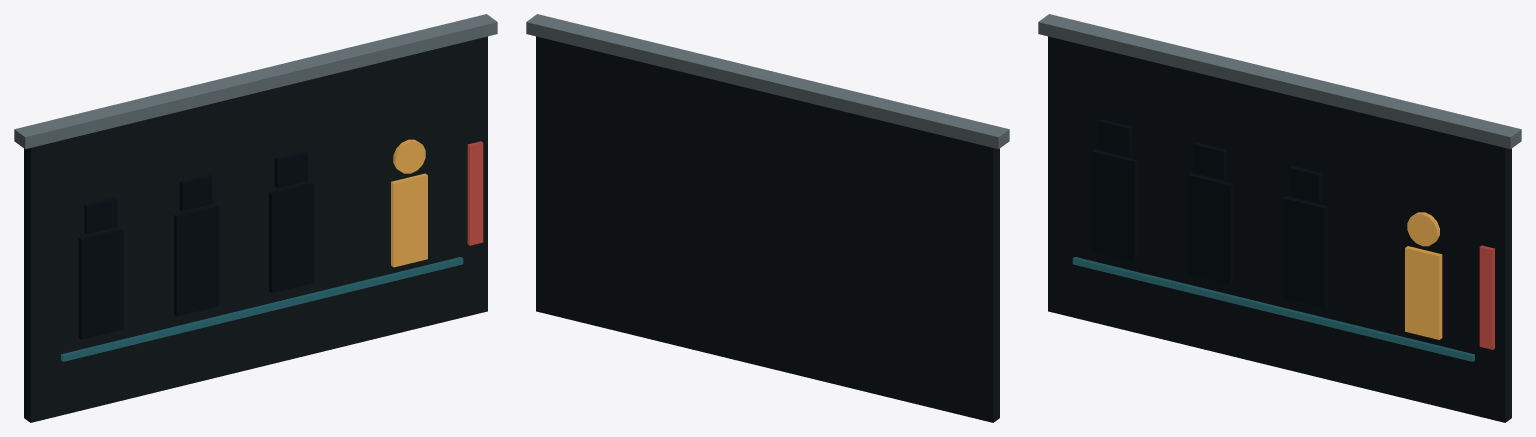
File: hp_room_cyber_mural_protocol_finale.glb
The picture shows the model from 3 angles, left to right: view 1: azimuth 30°, elevation 25°; view 2: azimuth 150°, elevation 25°; view 3: azimuth 330°, elevation 25°; orthographic projection.
Parts seen in each view (by area): view 1: mural_backing, mural_frame, robot_body_0, robot_body_1, robot_body_2, queue_floor_line, human_body, door_red_slot, robot_head_0, robot_head_1, robot_head_2, human_head; view 2: mural_backing, mural_frame; view 3: mural_backing, mural_frame, robot_body_0, robot_body_2, robot_body_1, queue_floor_line, human_body, door_red_slot, robot_head_0, robot_head_1, robot_head_2, human_head.
Part boxes in pixels (x1,y1,x2,y2): mural_backing: (24, 36, 487, 422); mural_frame: (14, 14, 497, 149); robot_body_0: (78, 228, 123, 339); robot_body_1: (174, 204, 218, 316); robot_body_2: (269, 181, 313, 293); queue_floor_line: (61, 257, 463, 361); human_body: (391, 173, 427, 267); door_red_slot: (467, 141, 483, 245); robot_head_0: (84, 197, 117, 234); robot_head_1: (179, 174, 212, 211); robot_head_2: (274, 151, 307, 188); human_head: (393, 139, 425, 173); mural_backing: (536, 36, 999, 422); mural_frame: (526, 14, 1009, 149); mural_backing: (1048, 36, 1511, 422); mural_frame: (1038, 14, 1521, 149); robot_body_0: (1092, 150, 1137, 261); robot_body_2: (1283, 196, 1327, 307); robot_body_1: (1188, 173, 1232, 284); queue_floor_line: (1072, 257, 1474, 361); human_body: (1405, 246, 1442, 339); door_red_slot: (1479, 245, 1494, 349); robot_head_0: (1098, 119, 1131, 156); robot_head_1: (1193, 142, 1226, 179); robot_head_2: (1289, 166, 1321, 202); human_head: (1407, 212, 1439, 246).
Bounding box in the file's own units: 2.48 × 1.45 × 0.115.
